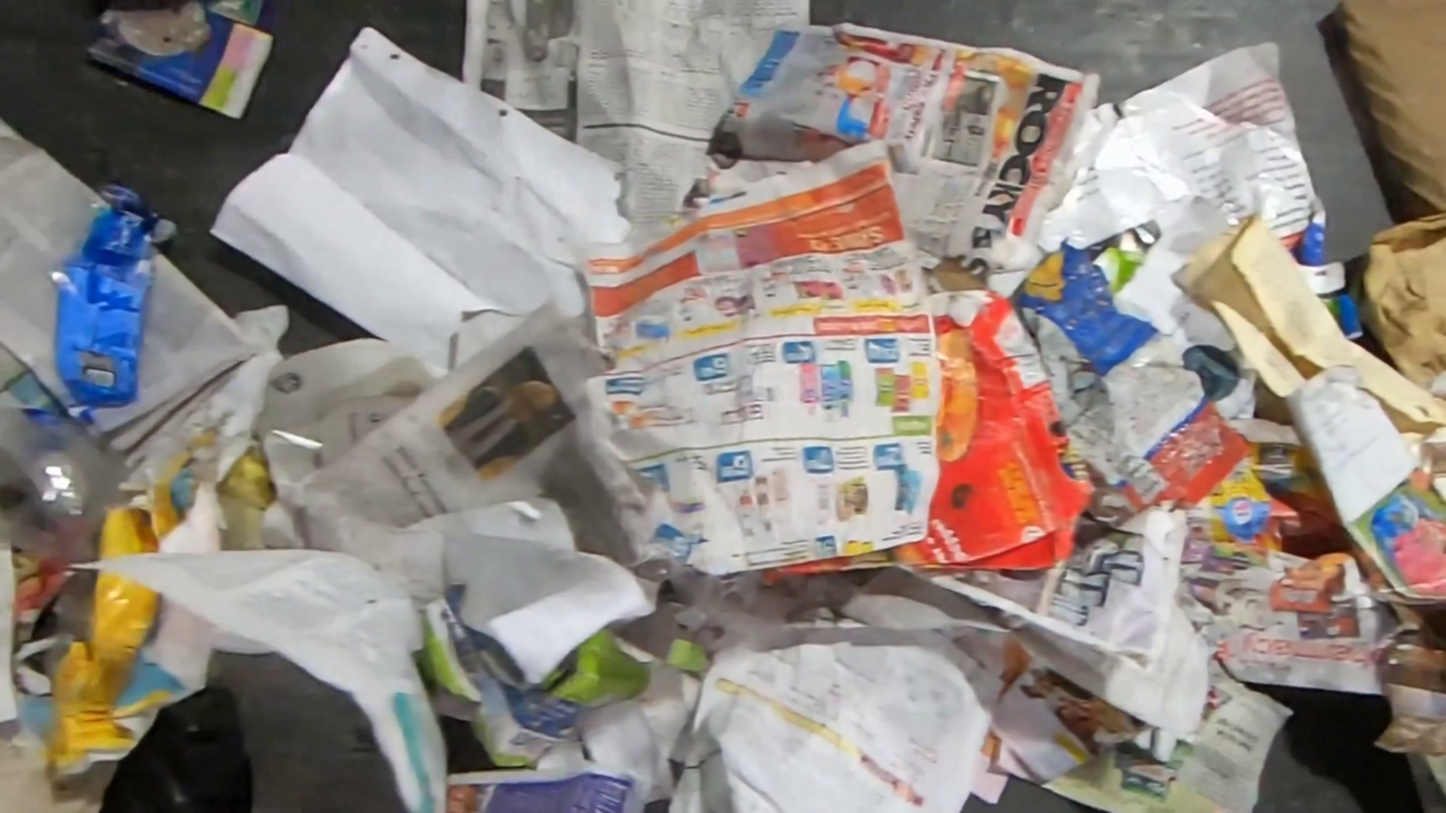cardboard: (757, 286, 1100, 588), (18, 426, 226, 779), (1010, 239, 1261, 512), (414, 581, 712, 769), (1335, 0, 1446, 244)
plastic: (0, 183, 180, 681)
